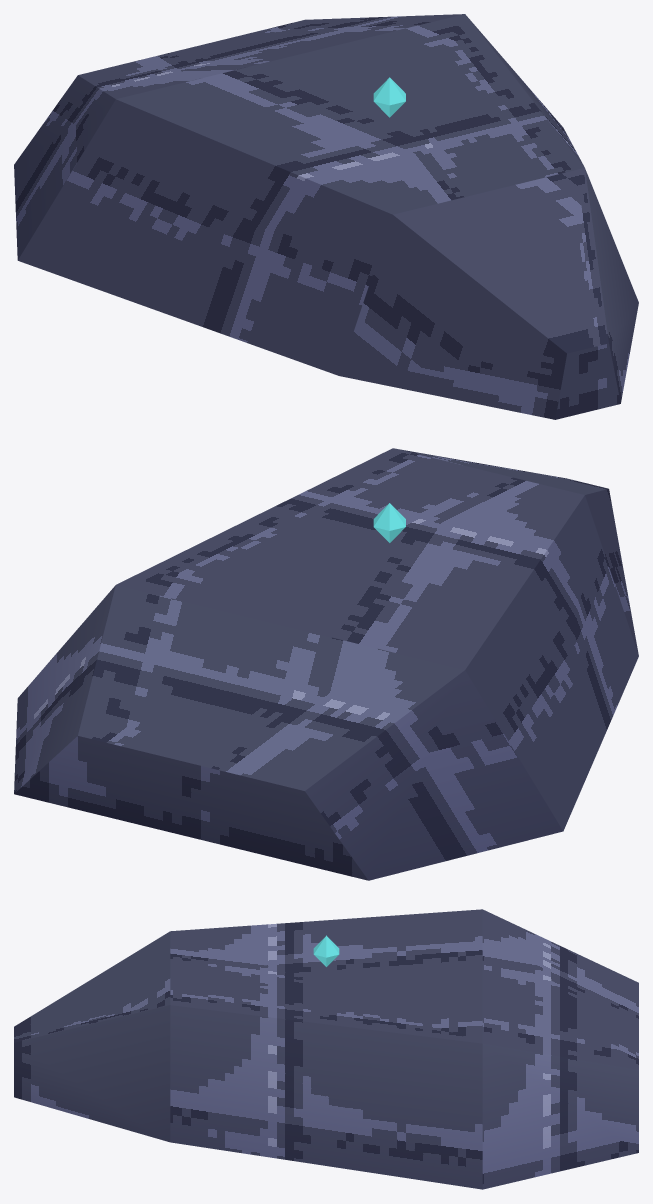
File: cysky.courier.glb
3 renders of one model, top to bottom at view 1: azimuth 30°, elevation 25°; view 2: azimuth 150°, elevation 25°; view 3: azimuth 270°, elevation 25°, orthographic. The views are drawn at different scales.
Visible parts, largest first — view 1: kit_body, kit_beacons; view 2: kit_body, kit_beacons; view 3: kit_body, kit_beacons.
Part boxes in pixels (x1,y1,x2,y2): kit_body: [14, 14, 638, 419]; kit_beacons: [373, 77, 405, 117]; kit_body: [14, 448, 638, 880]; kit_beacons: [373, 503, 405, 542]; kit_body: [14, 909, 638, 1189]; kit_beacons: [313, 935, 339, 966].
Bounding box in the file's own units: 2.7 × 0.896 × 3.4.
Materials: 2 (2 with a texture image).
